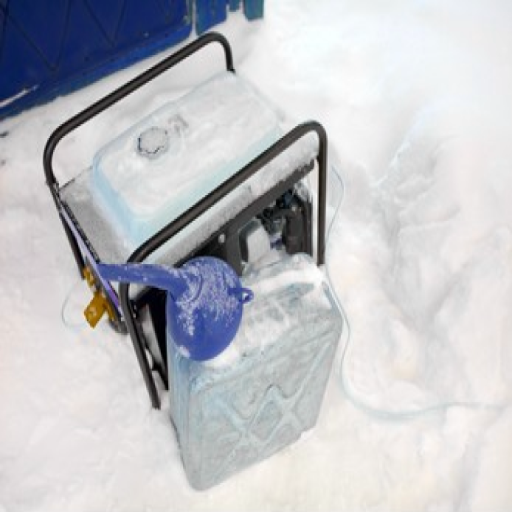portable_generator: (42, 32, 329, 414)
